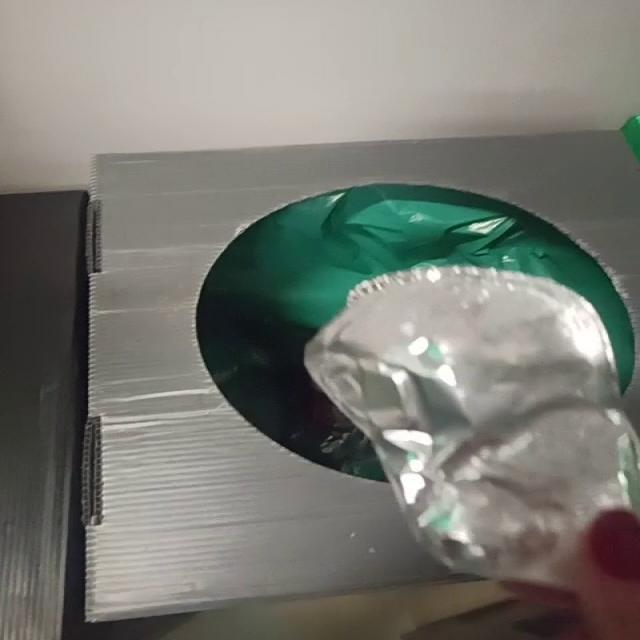Bin: (83, 132, 639, 622)
Metal: (304, 267, 639, 588)
